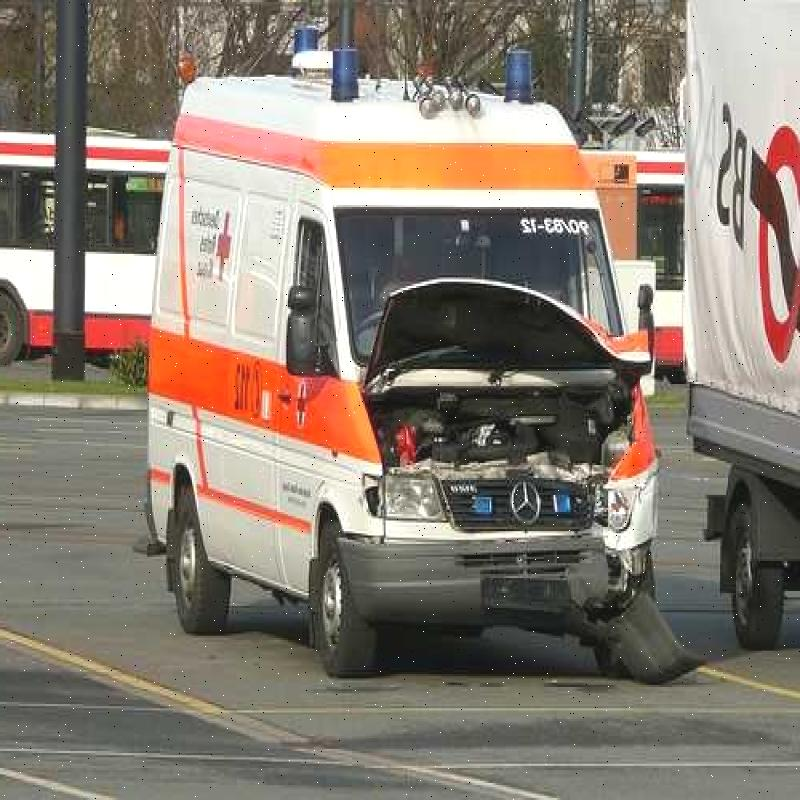AmbulanceSiren: (310, 24, 376, 117), (491, 41, 545, 108)
